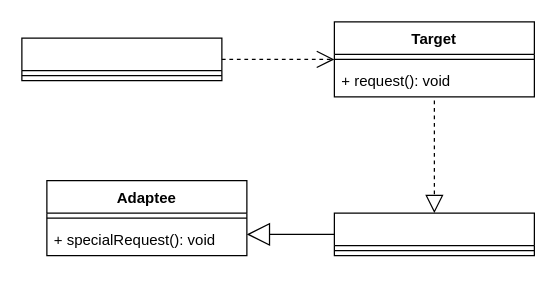
The diagram is 556 pixels wide and 281 high, and some of its shapes have lost their labels. The centre of each missing label's shape, as x and y in pixels:
"Adapter" goes at (433,234).
"Client" goes at (121,59).
